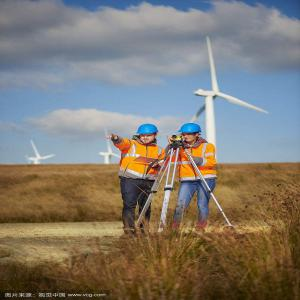blue: (179, 123, 204, 145), (136, 124, 160, 146)
